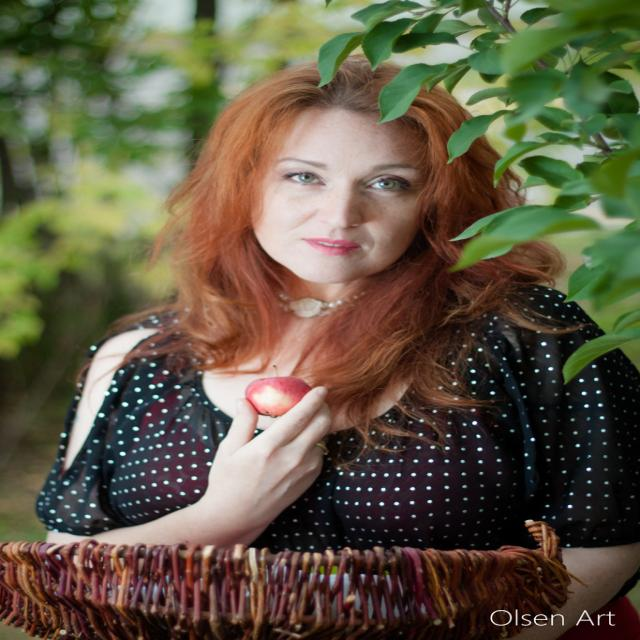Healty Apple: (244, 379, 320, 428)
